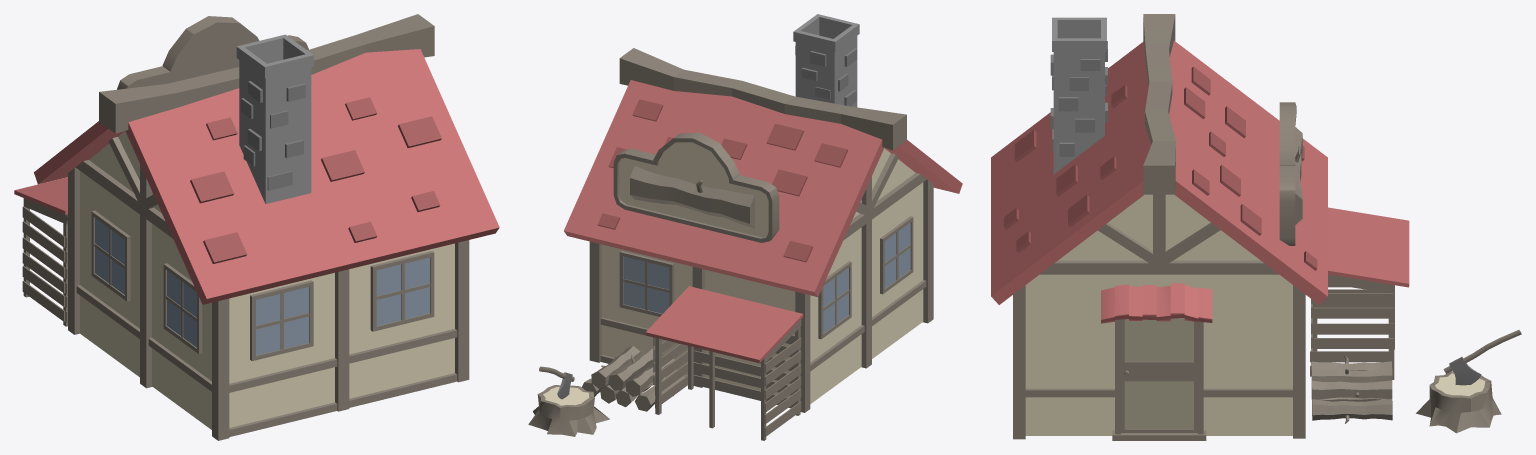
The model's file is House01.fbx.
3 renders of one model, left to right at view 1: azimuth 30°, elevation 25°; view 2: azimuth 150°, elevation 25°; view 3: azimuth 270°, elevation 25°, orthographic. The views are drawn at different scales.
Visible parts, largest first — view 1: pCubeShape5; view 2: pCubeShape5; view 3: pCubeShape5.
Part boxes in pixels (x1,y1,x2,y2): pCubeShape5: (14,14,499,440); pCubeShape5: (528,14,962,440); pCubeShape5: (991,14,1521,440).
Size of the model in its own units: 339 by 349 by 502.
